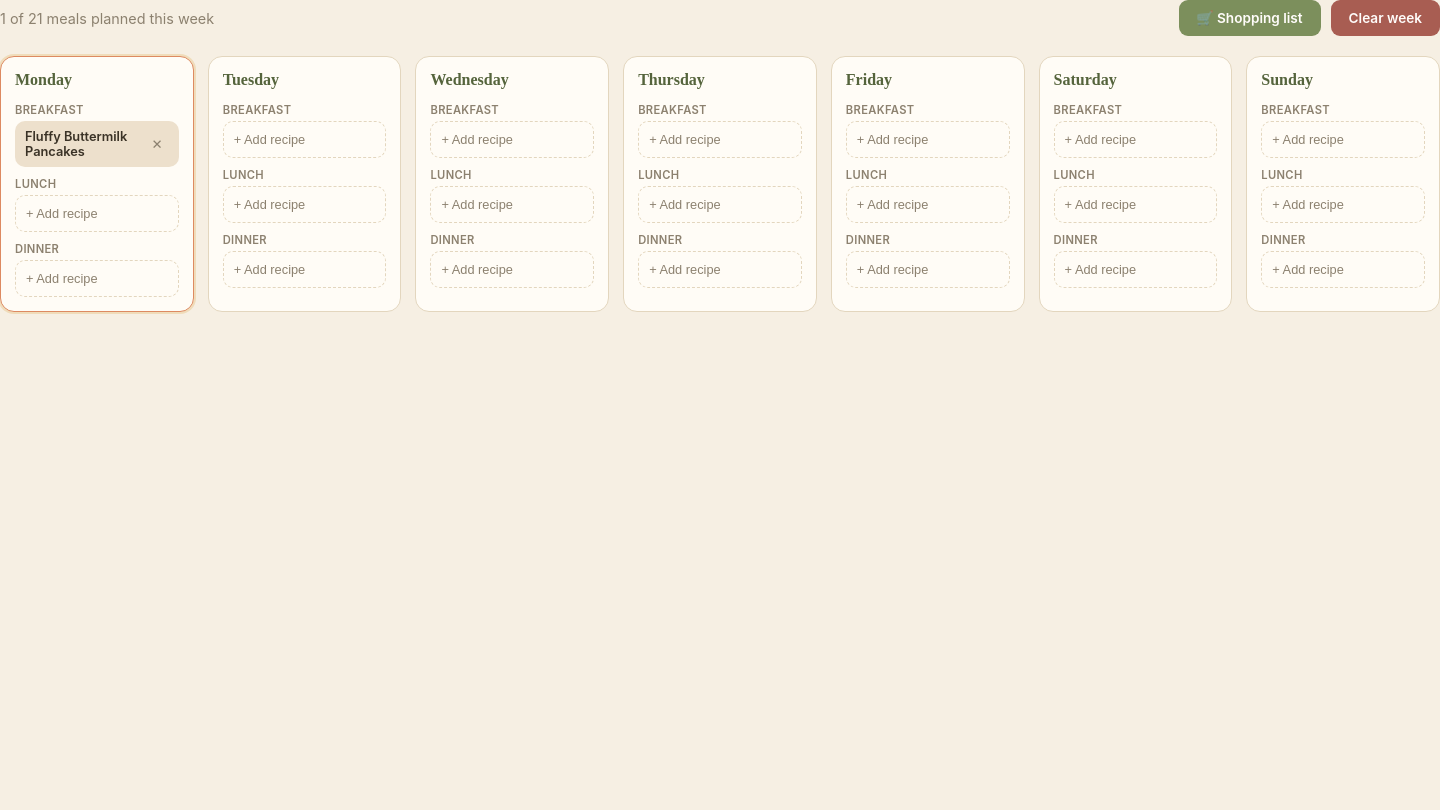
MealPlanner › shows a shopping list generated from planned meals
The image size is (1440, 810).
Click the button "🛒 Shopping list": (1250, 18) [1179, 0, 1321, 36]
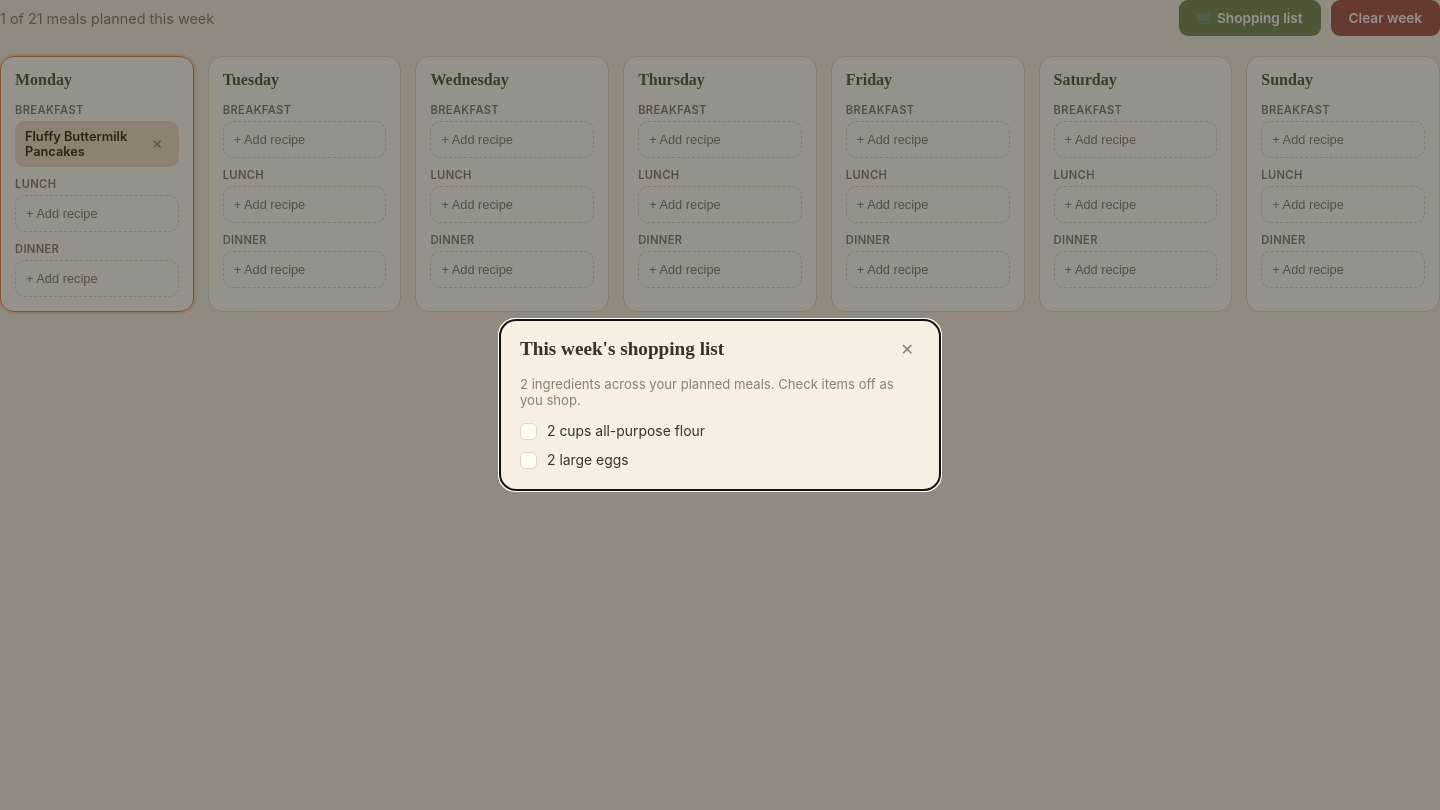
Result: the text "2 cups all-purpose flour" is shown at [547, 422, 705, 442]
Result: the text "2 large eggs" is shown at [547, 450, 629, 470]
